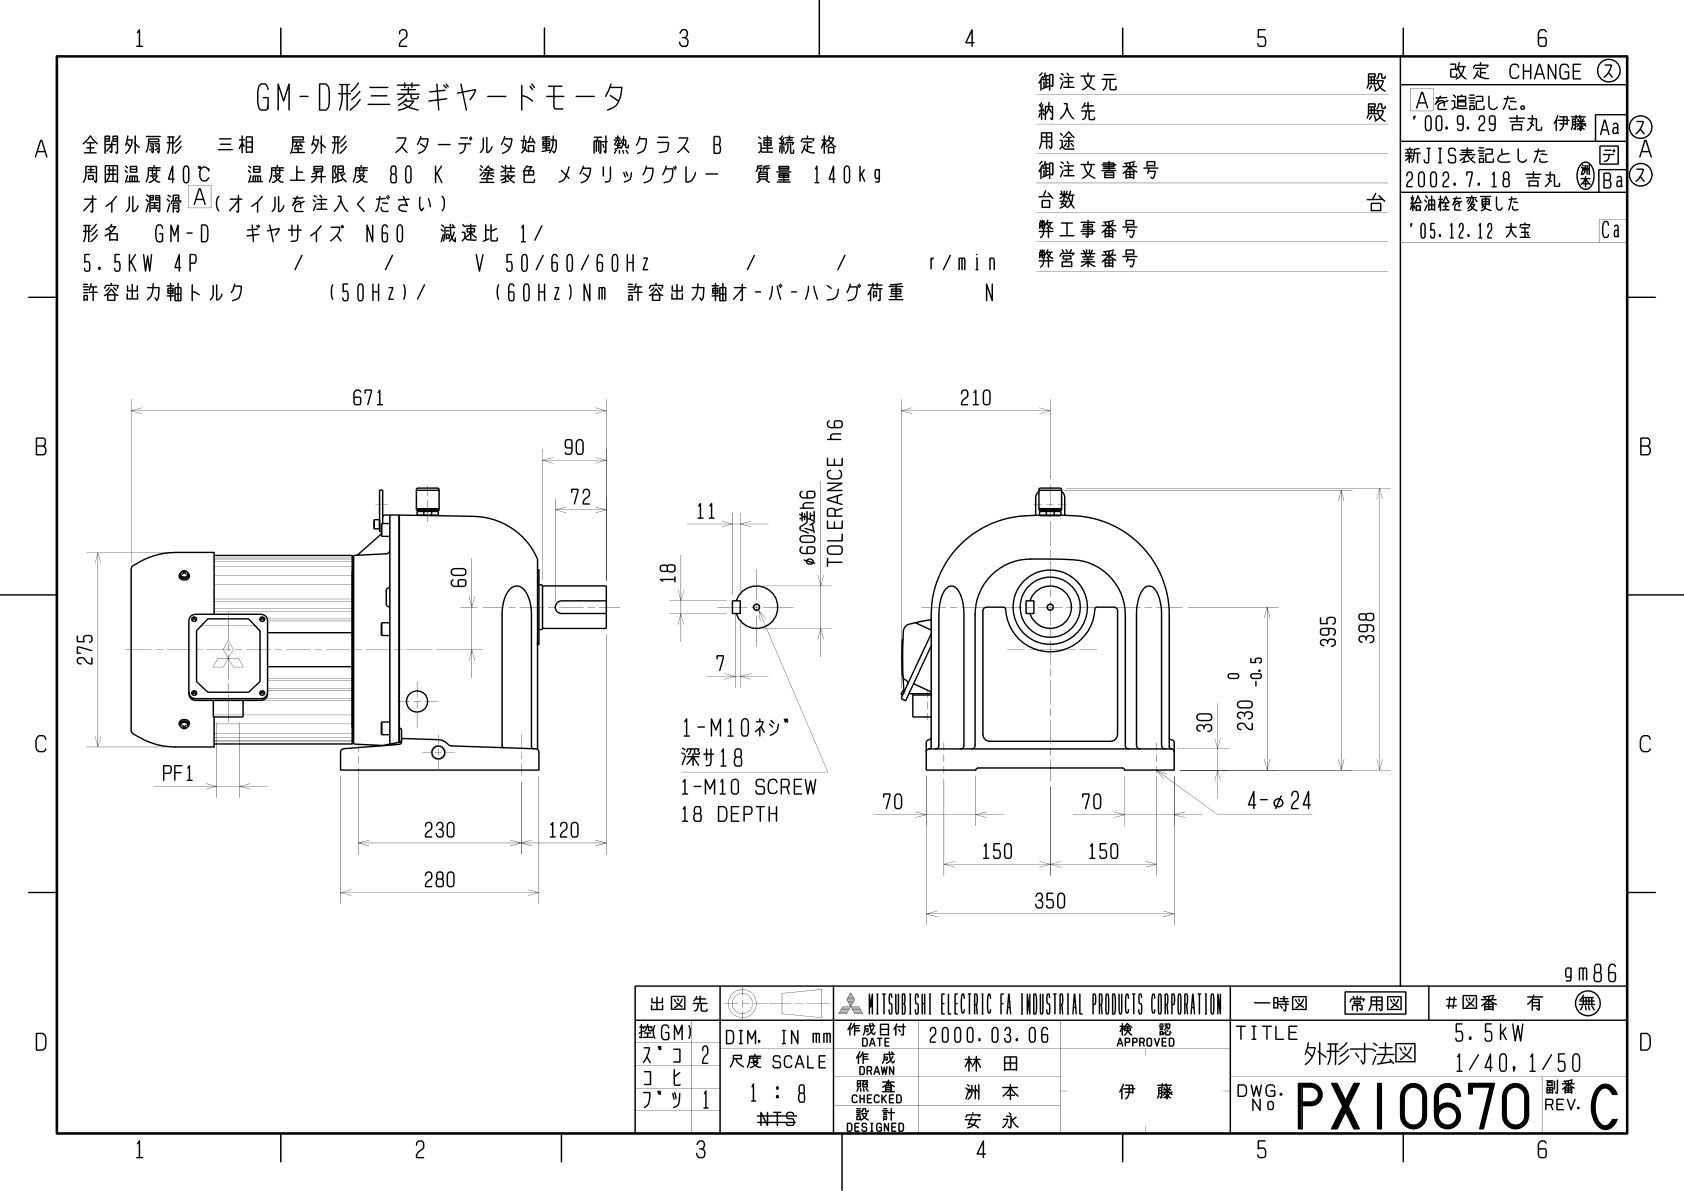GM_D_屋外＿三相_脚: (63, 347, 1392, 947)
